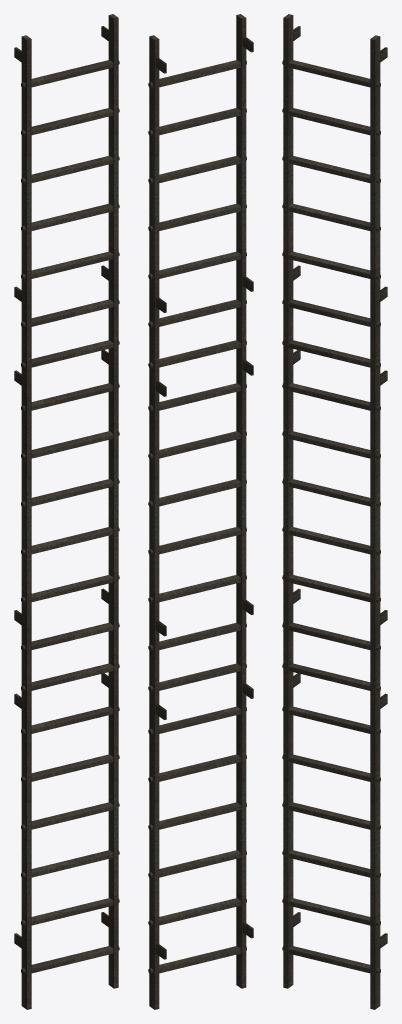
Rendered from ladder_hr_1_long.obj.
The picture shows the model from 3 angles, left to right: view 1: azimuth 30°, elevation 25°; view 2: azimuth 210°, elevation 25°; view 3: azimuth 330°, elevation 25°; orthographic projection.
Parts seen in each view (by area): view 1: ladder_hr_1_long; view 2: ladder_hr_1_long; view 3: ladder_hr_1_long.
Part boxes in pixels (x1,y1,x2,y2): ladder_hr_1_long: (14,14,119,1009); ladder_hr_1_long: (148,14,253,1009); ladder_hr_1_long: (282,14,387,1009).
Bounding box in the file's own units: 0.84 × 8.1 × 0.21.
